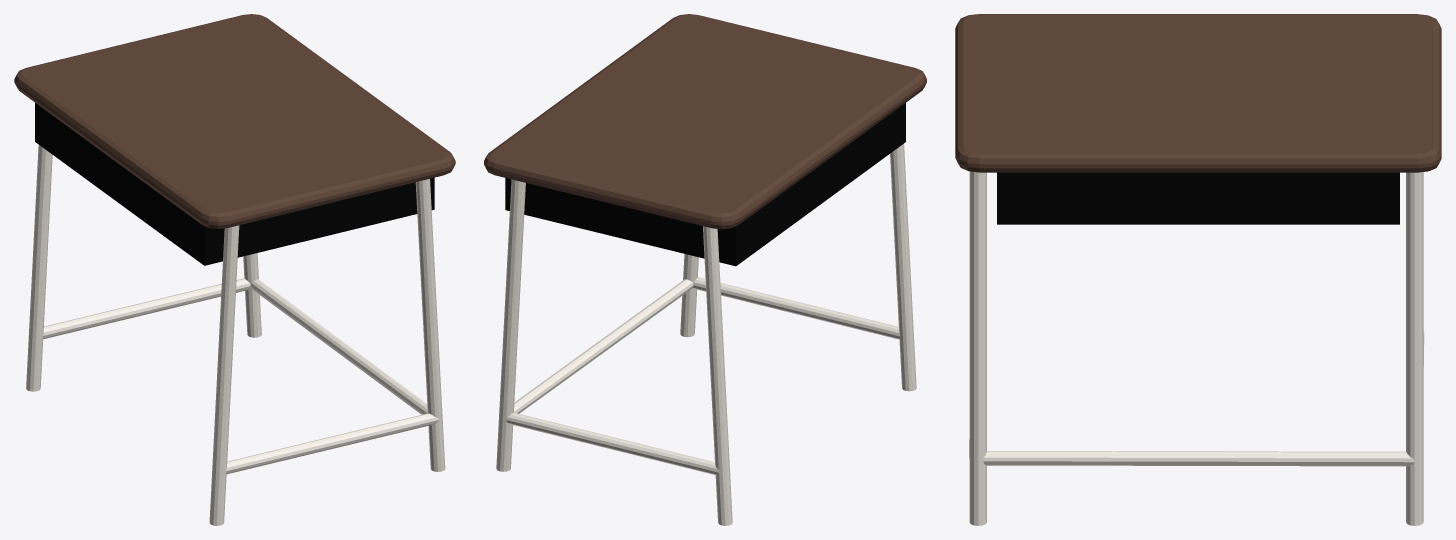
The model's file is small_table.fbx.
3 renders of one model, left to right at view 1: azimuth 30°, elevation 25°; view 2: azimuth 150°, elevation 25°; view 3: azimuth 270°, elevation 25°, orthographic. The views are drawn at different scales.
Parts seen in each view (by area): view 1: Small_Desk; view 2: Small_Desk; view 3: Small_Desk.
Boxes of the visible parts, x1,y1,x2,y2 form: Small_Desk: [14, 14, 455, 525]; Small_Desk: [484, 14, 926, 525]; Small_Desk: [955, 14, 1441, 525].
Bounding box in the file's own units: 64.43 × 76.82 × 90.5.
